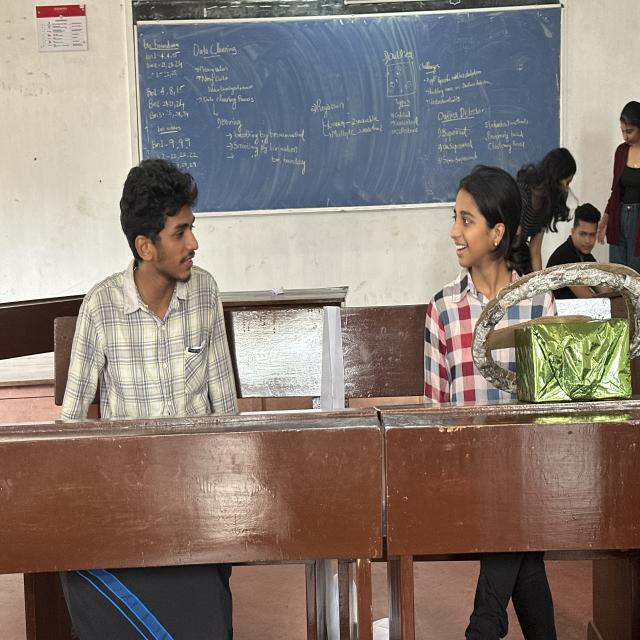no-seatbelt: (416, 240, 614, 464), (67, 250, 272, 463)
